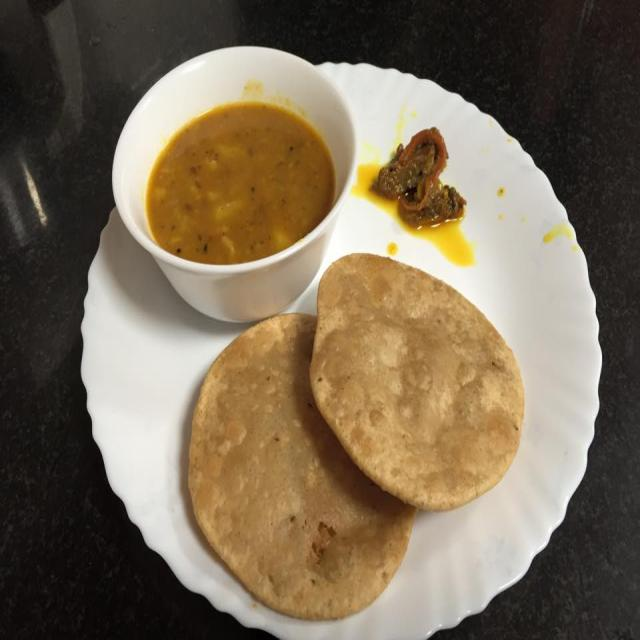CURRY: (145, 98, 338, 269)
PICKLE: (375, 123, 468, 224)
POORI: (186, 253, 526, 620)
